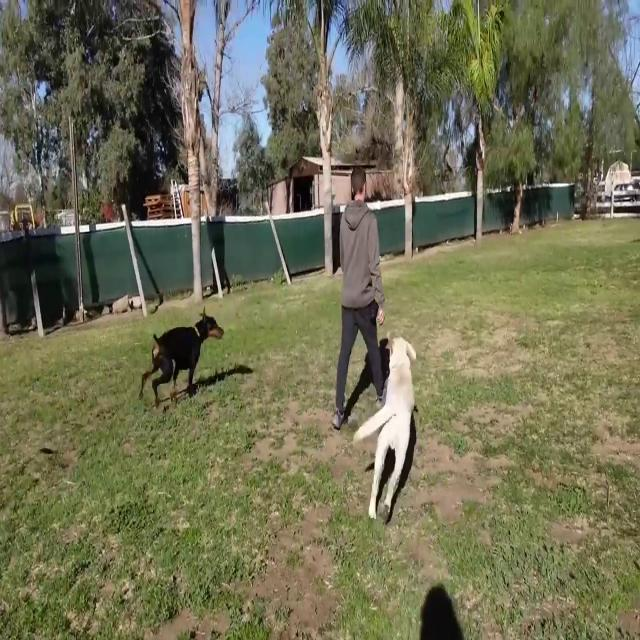Dog: (139, 306, 225, 406)
Unleashed_Dog: (354, 312, 416, 524)
